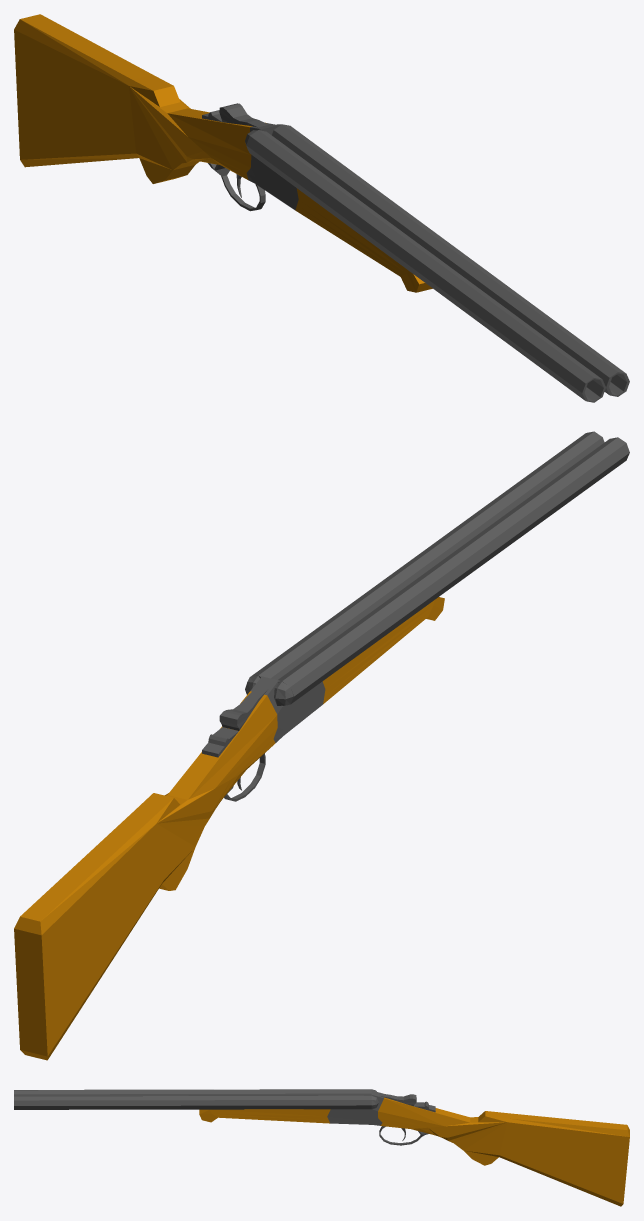
Rendered from pomp1.gltf.
The picture shows the model from 3 angles, top to bottom: view 1: azimuth 30°, elevation 25°; view 2: azimuth 150°, elevation 25°; view 3: azimuth 270°, elevation 25°; orthographic projection. The views are drawn at different scales.
Parts seen in each view (by area): view 1: Cube; view 2: Cube; view 3: Cube.
Boxes of the visible parts, x1,y1,x2,y2 form: Cube: (14,14,629,402); Cube: (14,431,629,1060); Cube: (14,1089,629,1206).
Bounding box in the file's own units: 0.0786 × 0.3259 × 1.64.
